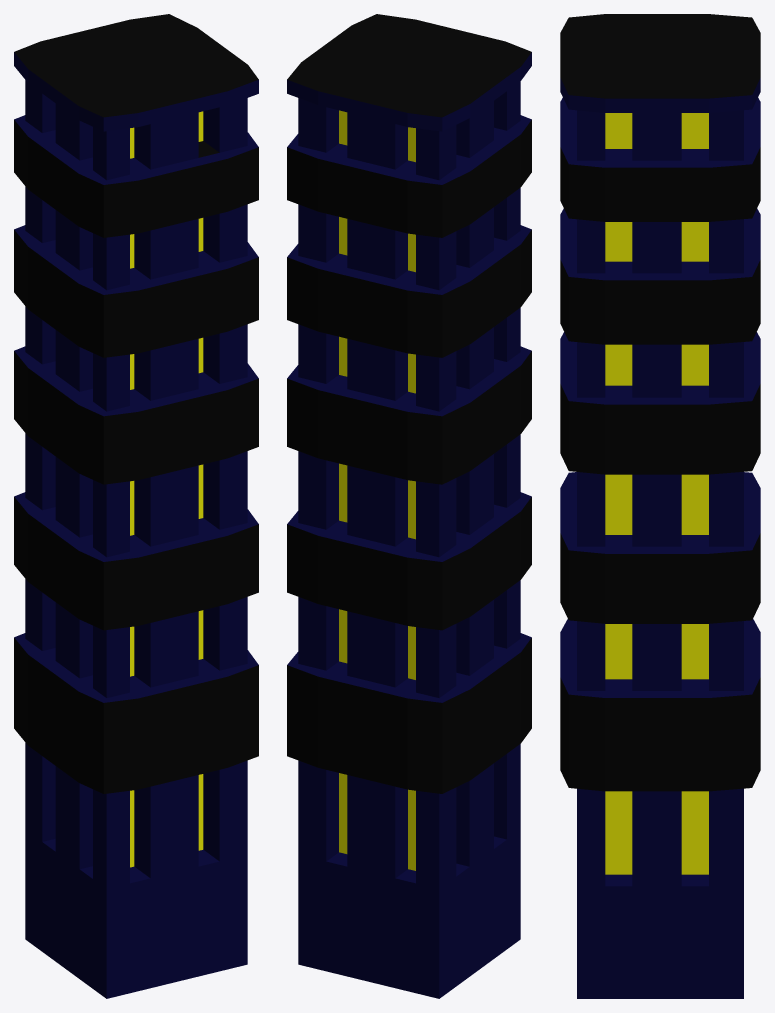
Rendered from Building.fbx.
The picture shows the model from 3 angles, left to right: view 1: azimuth 30°, elevation 25°; view 2: azimuth 150°, elevation 25°; view 3: azimuth 270°, elevation 25°; orthographic projection. The views are drawn at different scales.
Parts seen in each view (by area): view 1: pCube1; view 2: pCube1; view 3: pCube1.
Boxes of the visible parts, box(x1,y1,x2,y2) form: pCube1: box(14, 14, 258, 998); pCube1: box(287, 14, 531, 998); pCube1: box(560, 14, 760, 998).
Size of the model in its own units: 6 by 30 by 6.
